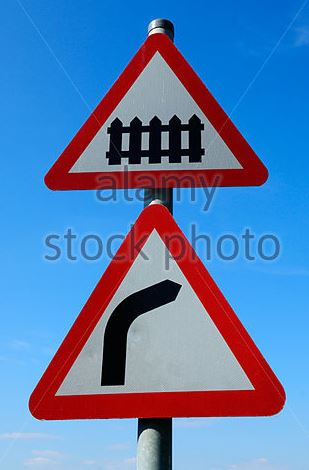Bend_to_right: (24, 203, 290, 427)
